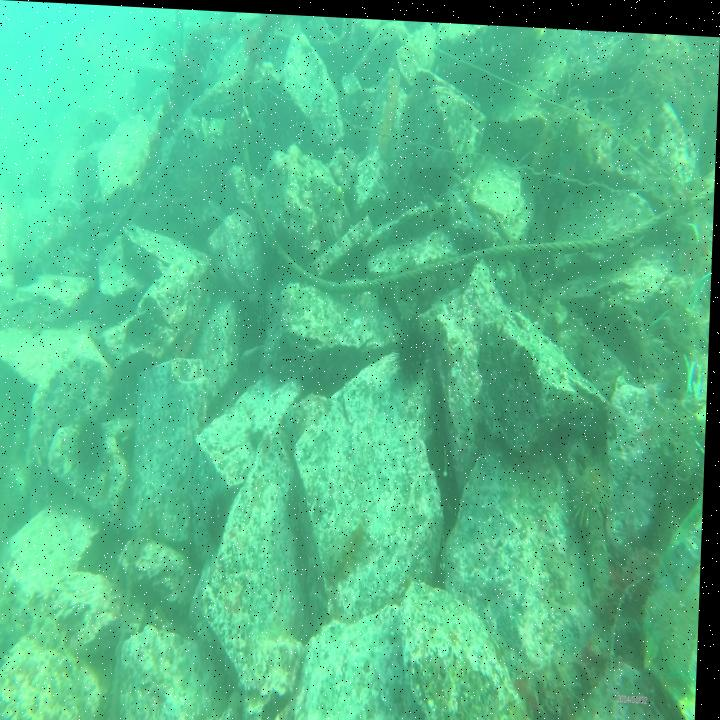echinus: (569, 450, 618, 527), (71, 410, 112, 478), (394, 321, 432, 387), (204, 482, 236, 551)
